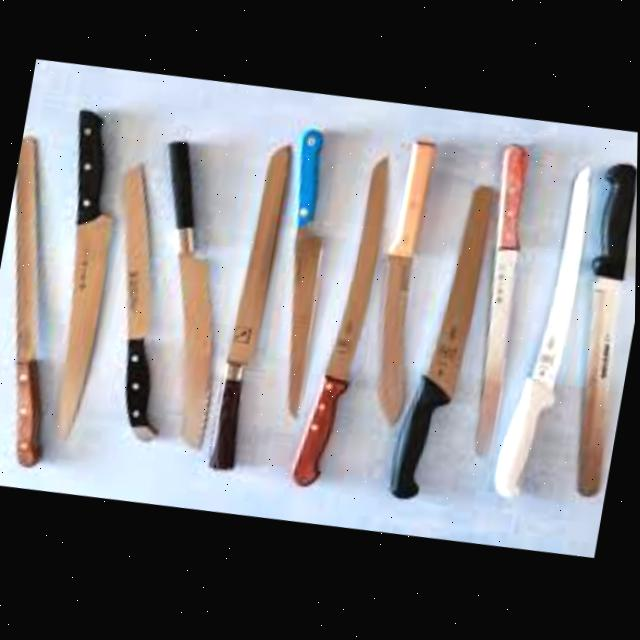knife: (119, 136, 257, 453), (26, 106, 137, 442), (494, 163, 600, 506), (84, 158, 207, 445), (294, 150, 397, 492), (391, 179, 498, 507), (0, 130, 96, 468), (210, 140, 296, 473), (555, 163, 638, 500), (456, 145, 545, 459), (258, 127, 350, 420), (363, 137, 452, 429)
